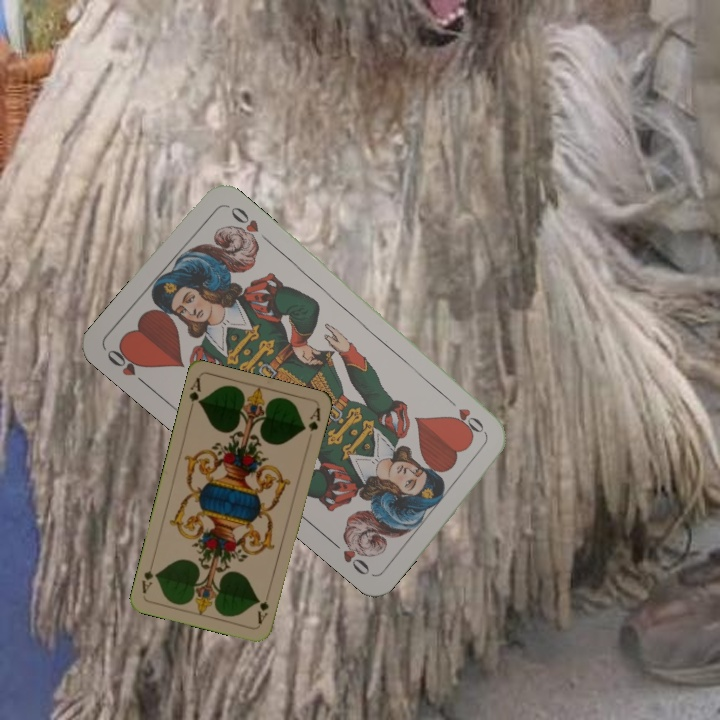GA: (185, 374, 204, 414), (253, 587, 271, 627)
HO: (102, 341, 151, 389), (442, 393, 490, 437)
